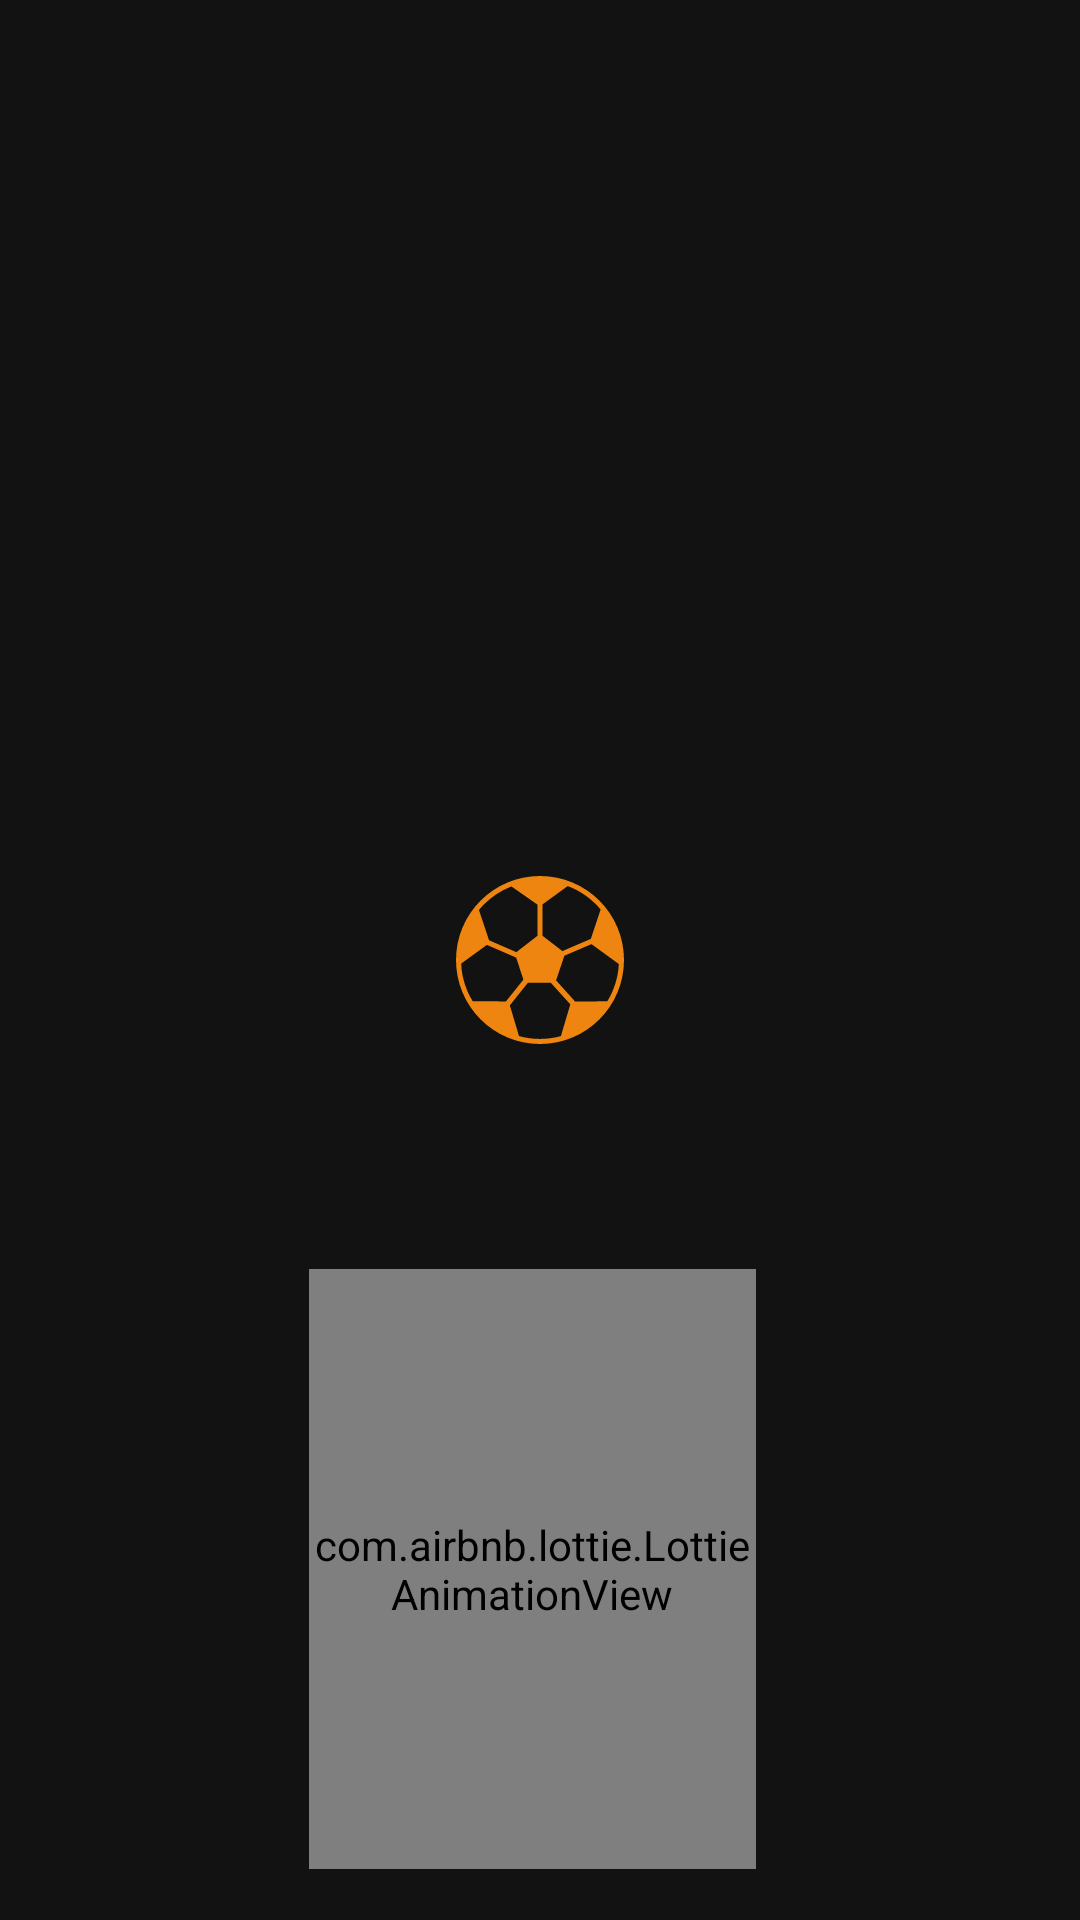

Icons on this 1080px×1920px Android screen, each with its box as {"x1": x1, "y1": y1, "x2": x2, "y2": y2}:
ball: {"x1": 456, "y1": 876, "x2": 624, "y2": 1044}
